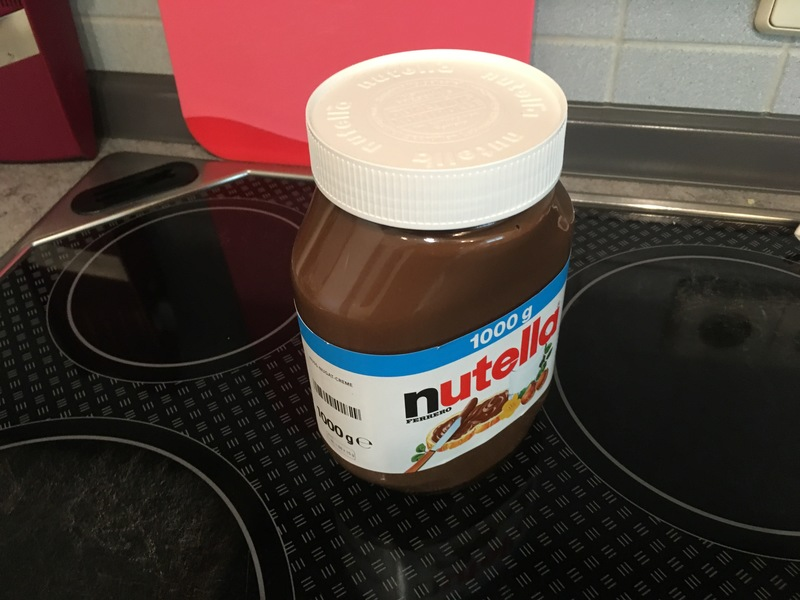nutella: (289, 49, 575, 495)
